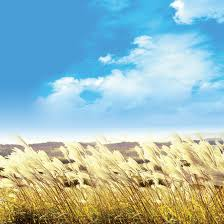field: (6, 143, 222, 224)
sky: (3, 2, 224, 139)
